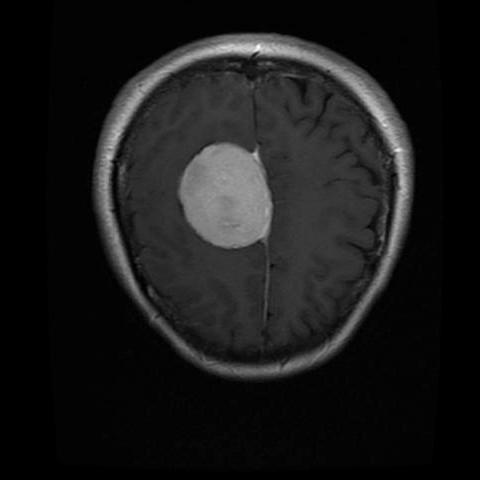Tumour-Meningioma: (161, 123, 276, 267)
